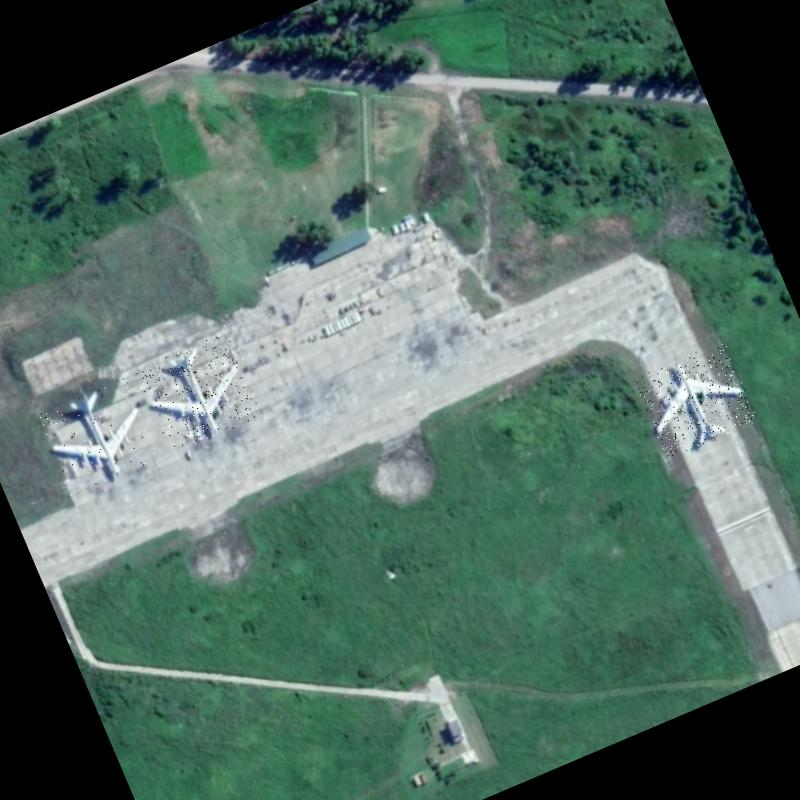A17: (35, 372, 162, 498), (136, 332, 262, 454), (633, 340, 759, 460)
